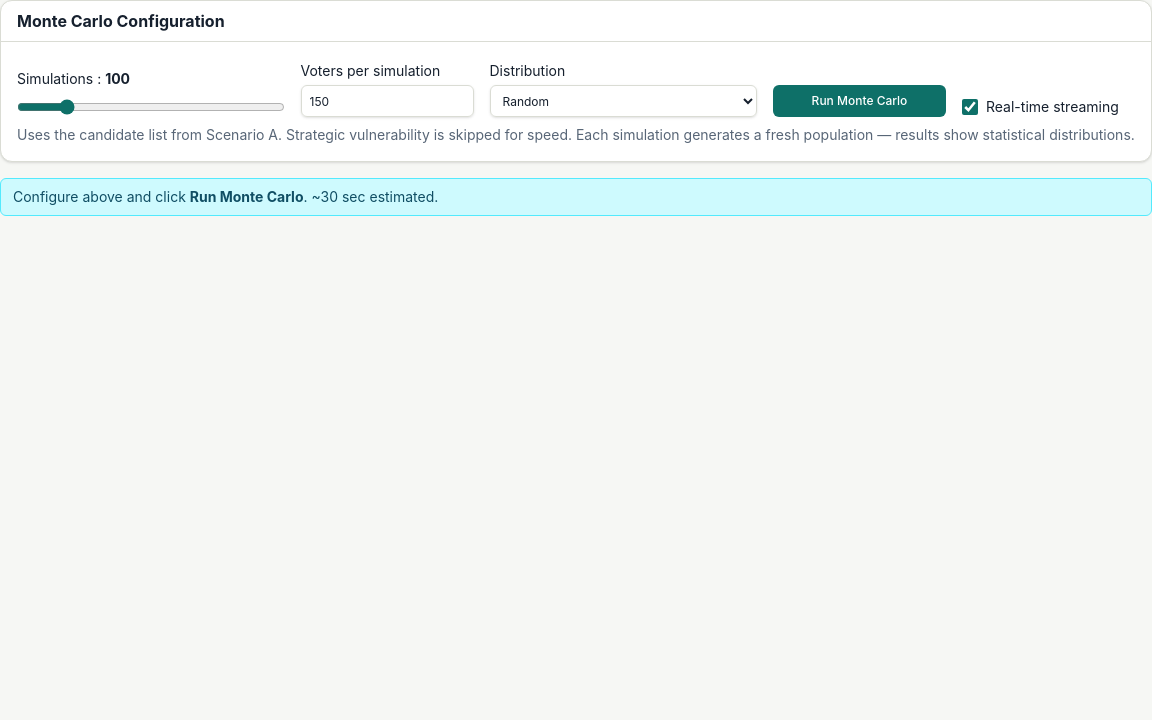
MonteCarloResults › shows both winners, and their shared percentage, when runs tie
The width and height of the screenshot is (1152, 720).
Click the checkbox labelled "Real-time streaming" at (970, 107), box [962, 99, 978, 115]
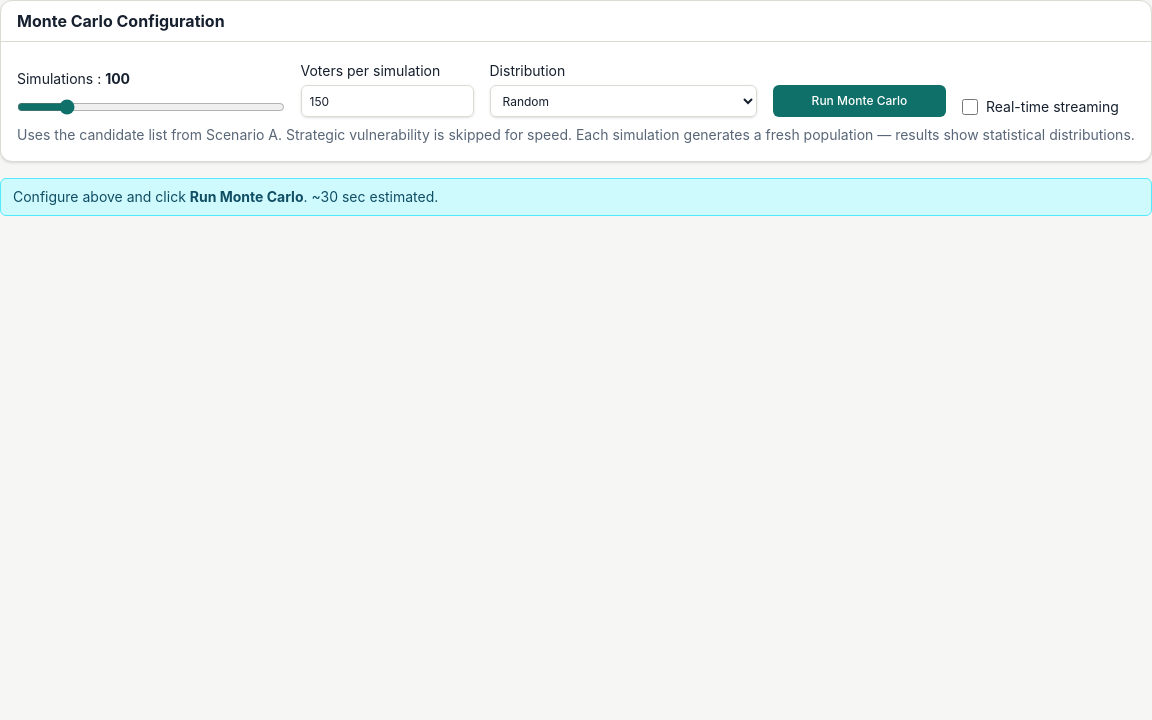
Click the button "Run Monte Carlo" at (860, 101), box [773, 85, 946, 117]
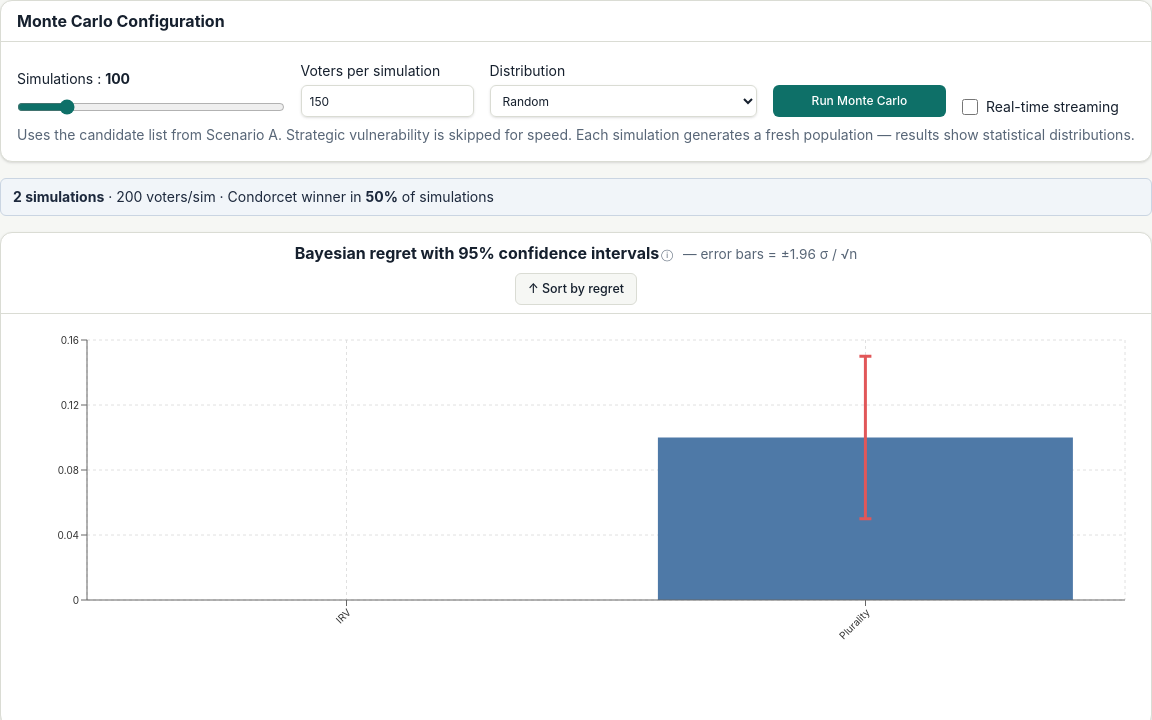
Check: the text "50%" is shown, box [366, 188, 398, 205]
